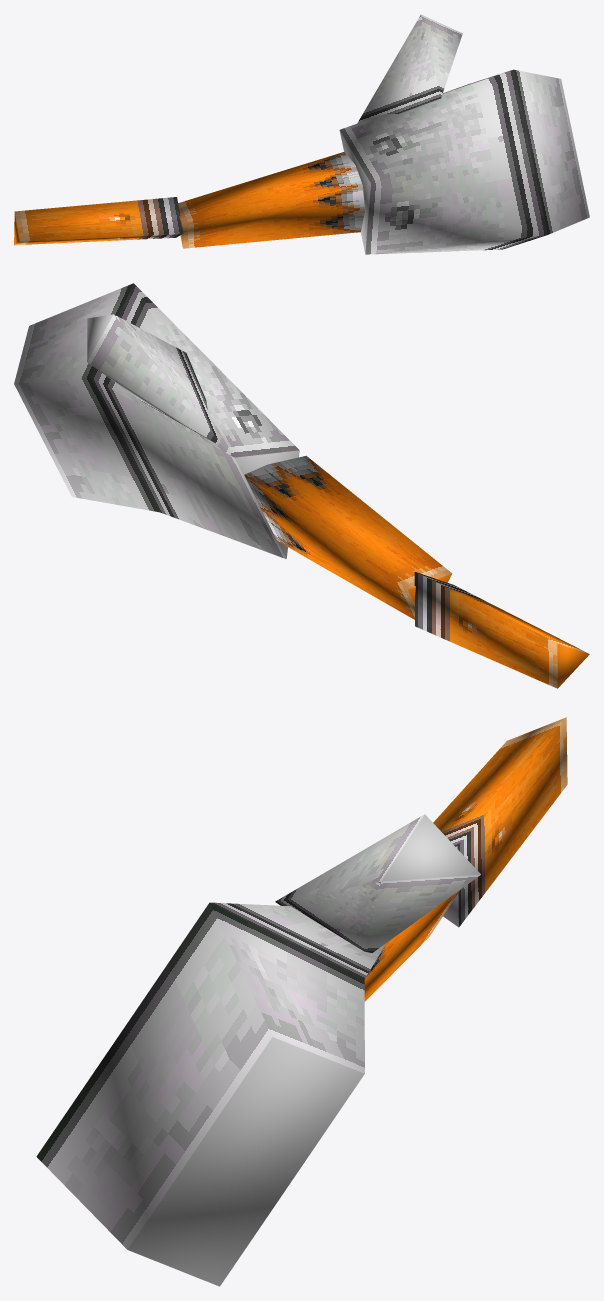
The model's file is Arm.obj.
3 views of the same model, one above another, from view 1: azimuth 30°, elevation 25°; view 2: azimuth 150°, elevation 25°; view 3: azimuth 270°, elevation 25° (orthographic). The views are drawn at different scales.
Size of the model in its own units: 4.09 by 1.61 by 1.95.
7 materials, 7 textured.
